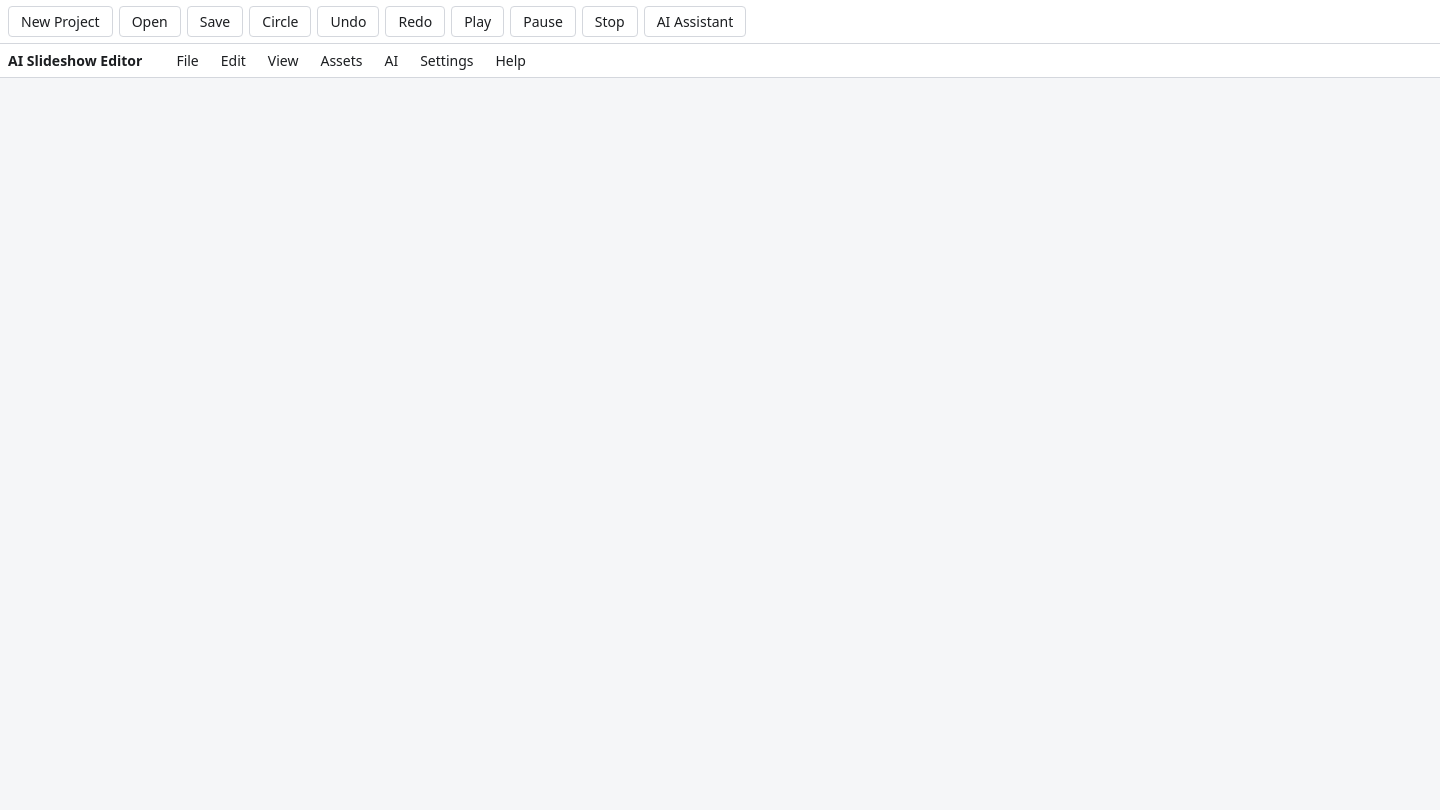
Test: ProjectsDialog › opens a project through the openProject flow and closes the overlay
Click the button "Open" at x=150, y=22, box [119,6,181,37]
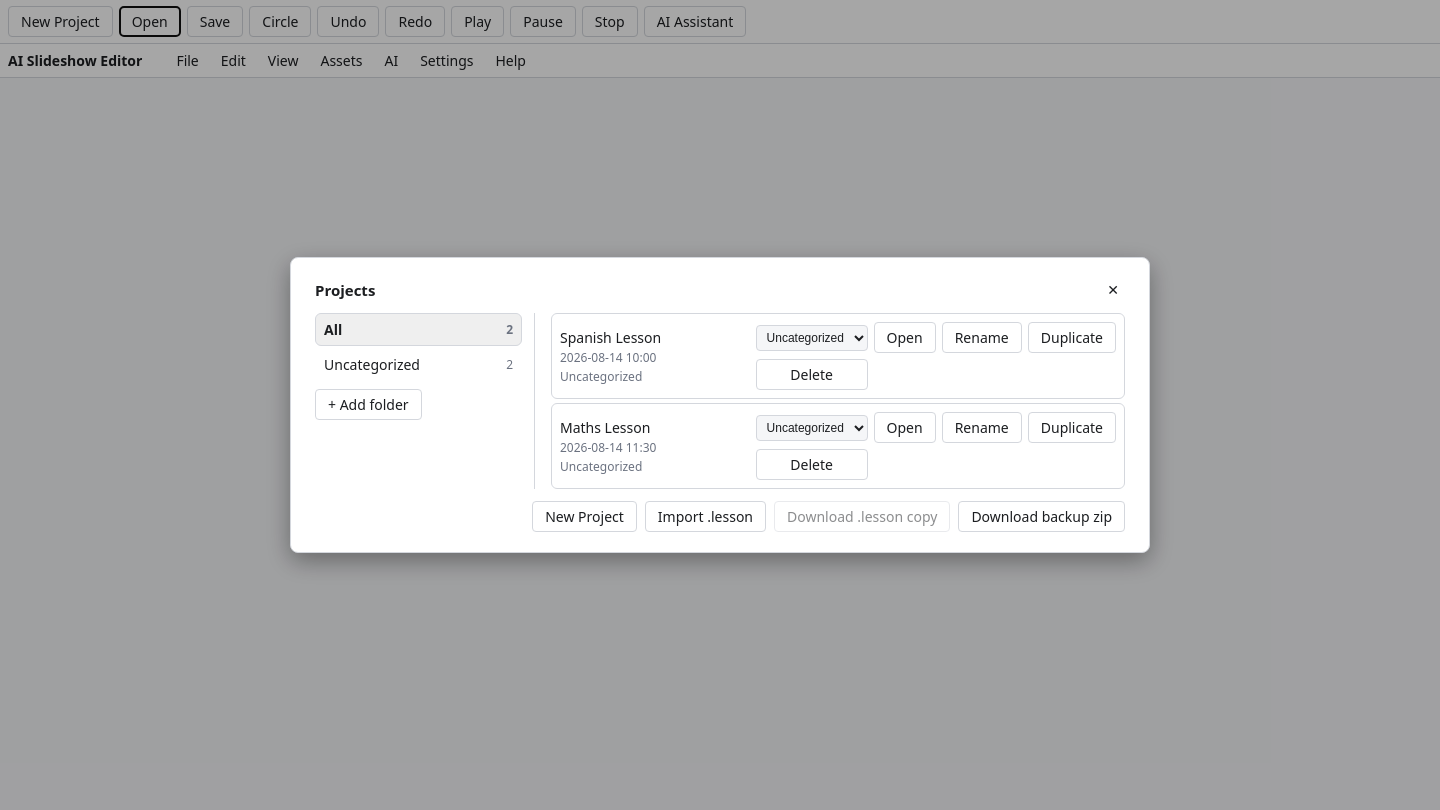
Now the text "Spanish Lesson" is shown, box [560,328,661,346]
Click the button with aria-label "Open Spanish Lesson" at x=905, y=338, box [874,322,936,353]
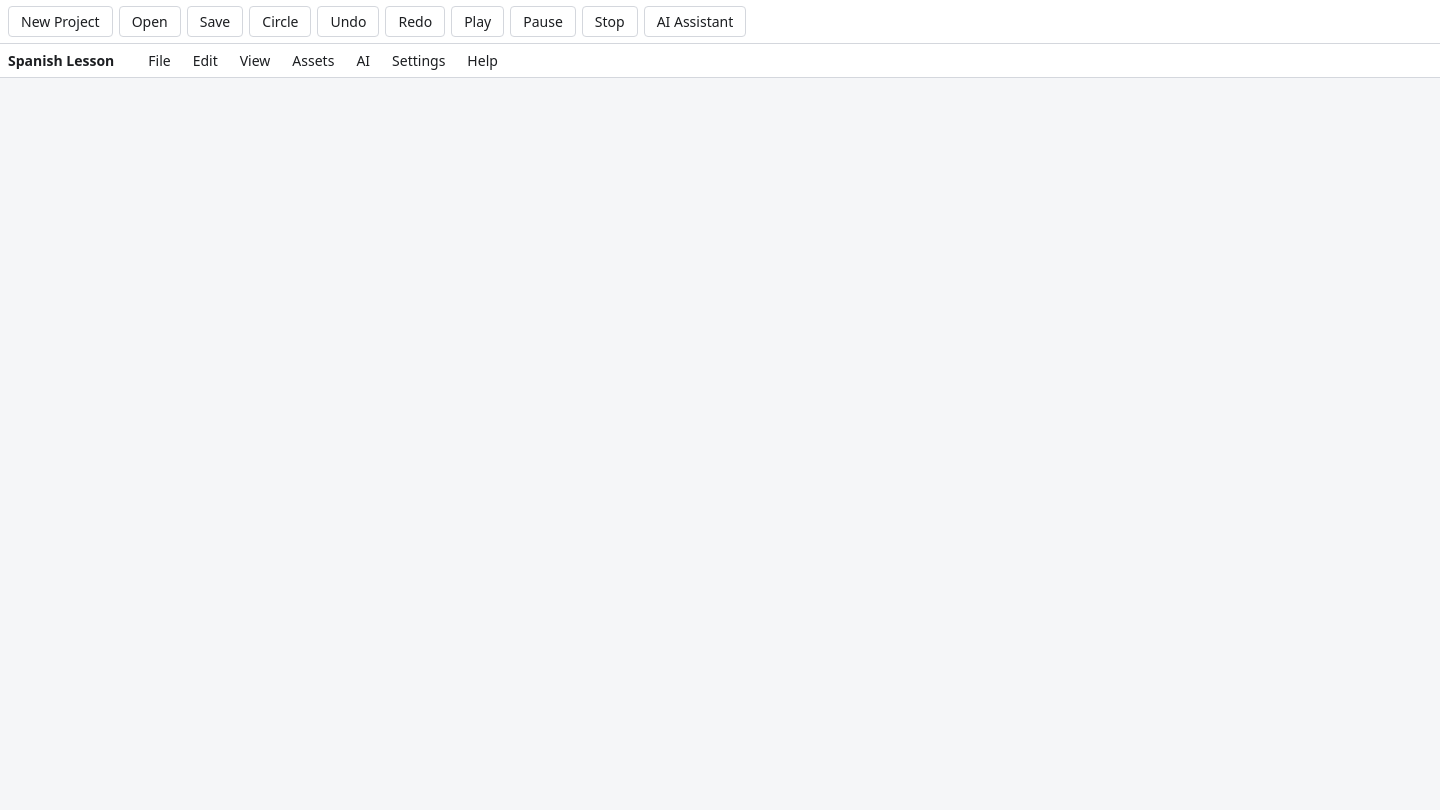
Now the text "Spanish Lesson" is shown, box [8,51,114,70]
Now the heading "Projects" is gone
